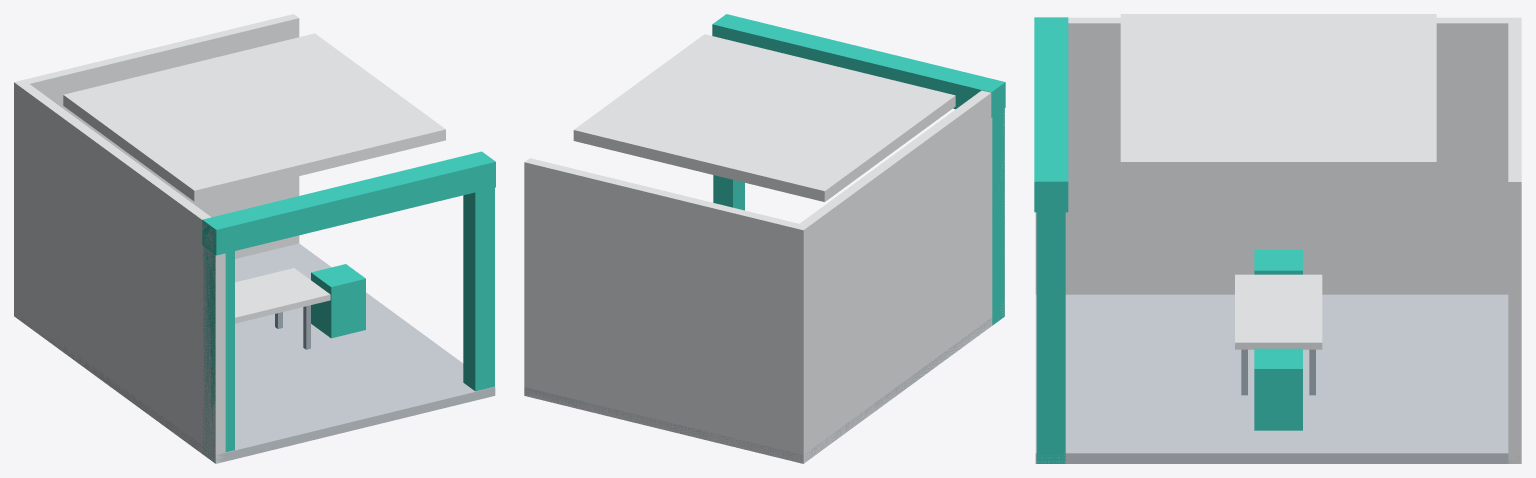
3 renders of one model, left to right at view 1: azimuth 30°, elevation 25°; view 2: azimuth 150°, elevation 25°; view 3: azimuth 270°, elevation 25°, orthographic. The views are drawn at different scales.
Parts seen in each view (by area): view 1: Exhibition Booth Concept; view 2: Exhibition Booth Concept; view 3: Exhibition Booth Concept.
Boxes of the visible parts, x1,y1,x2,y2 form: Exhibition Booth Concept: (14, 14, 495, 463); Exhibition Booth Concept: (524, 14, 1005, 463); Exhibition Booth Concept: (1034, 14, 1521, 463).
Bounding box in the file's own units: 4 × 3.34 × 5.02.
